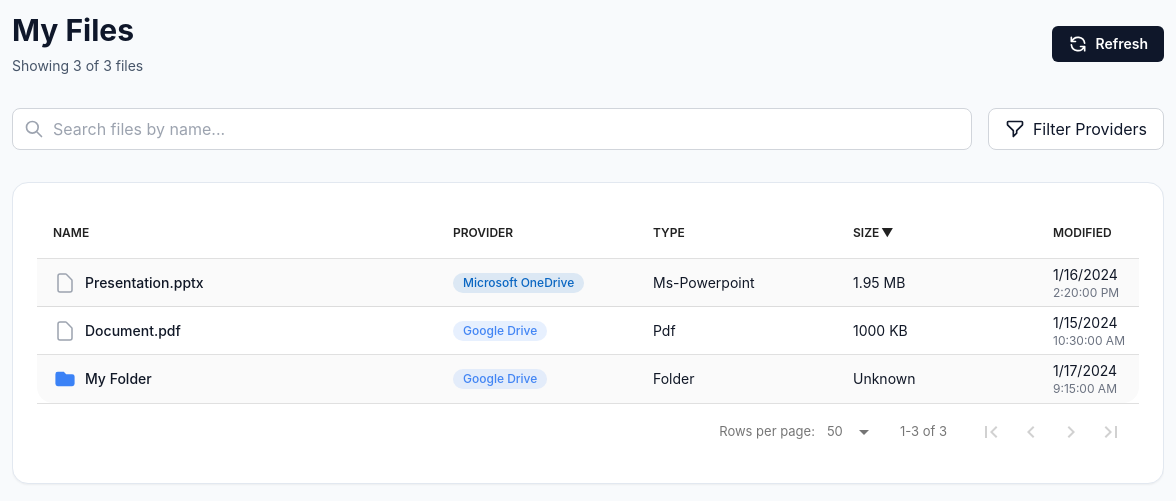
it: FilesPage › can toggle provider filters
Expected: the text "Document.pdf" is shown, [85, 320, 181, 340]
# Open filter menu
Click the button "Filter Providers".
click(1076, 129)  # box [988, 108, 1164, 150]
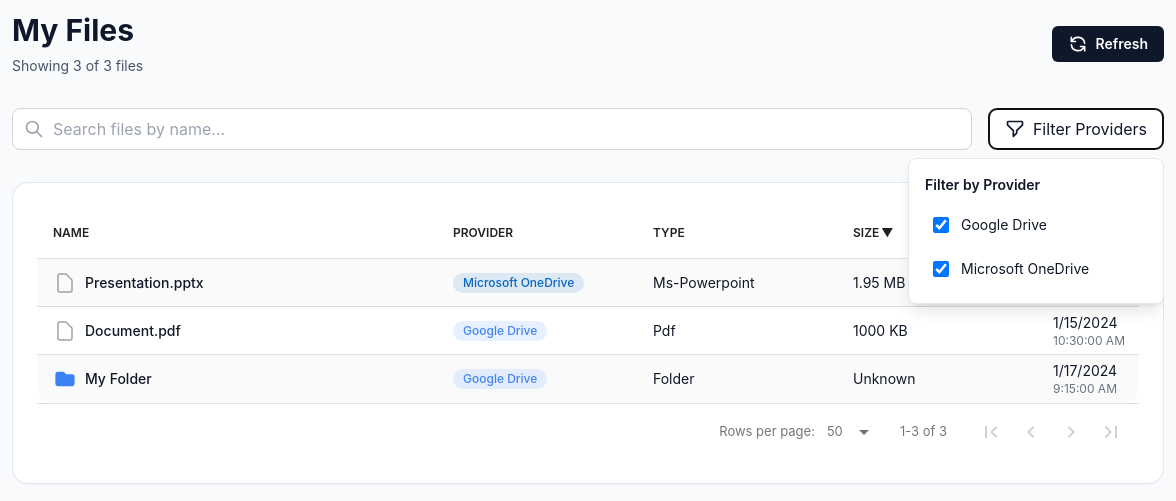
Click the checkbox labelled "Google Drive".
click(941, 225)  # box [933, 217, 949, 233]
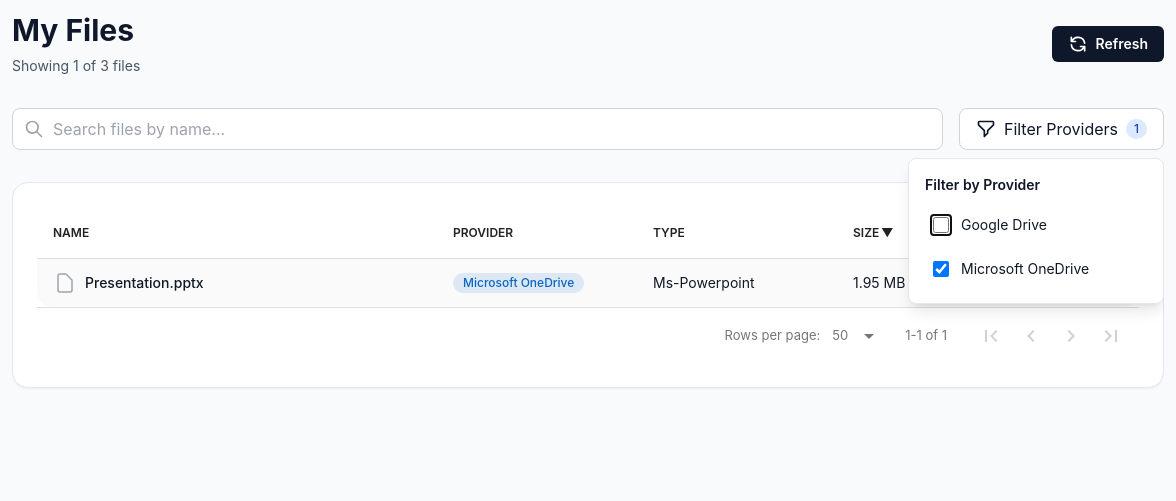
Expected: the text "Presentation.pptx" is shown, [85, 273, 204, 293]
Now the text "Document.pdf" is gone
Now the text "My Folder" is gone
# Re-check to show again
Click the checkbox labelled "Google Drive".
click(941, 225)  # box [933, 217, 949, 233]
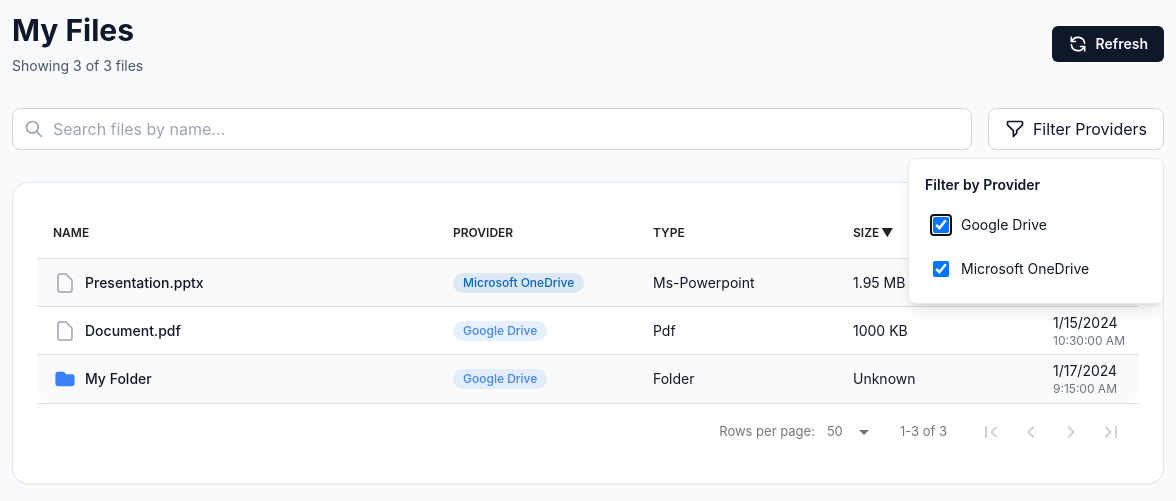
Now the text "Document.pdf" is shown, box [85, 320, 181, 340]
